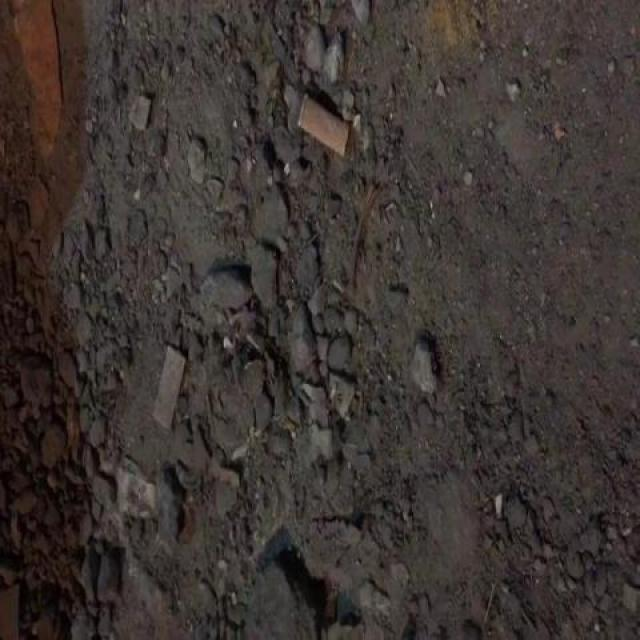non-organic waste: (295, 88, 353, 160)
